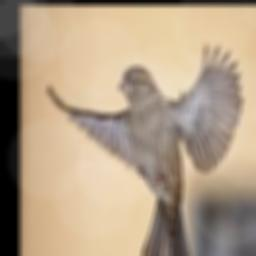Sparrow: (48, 42, 242, 256)
